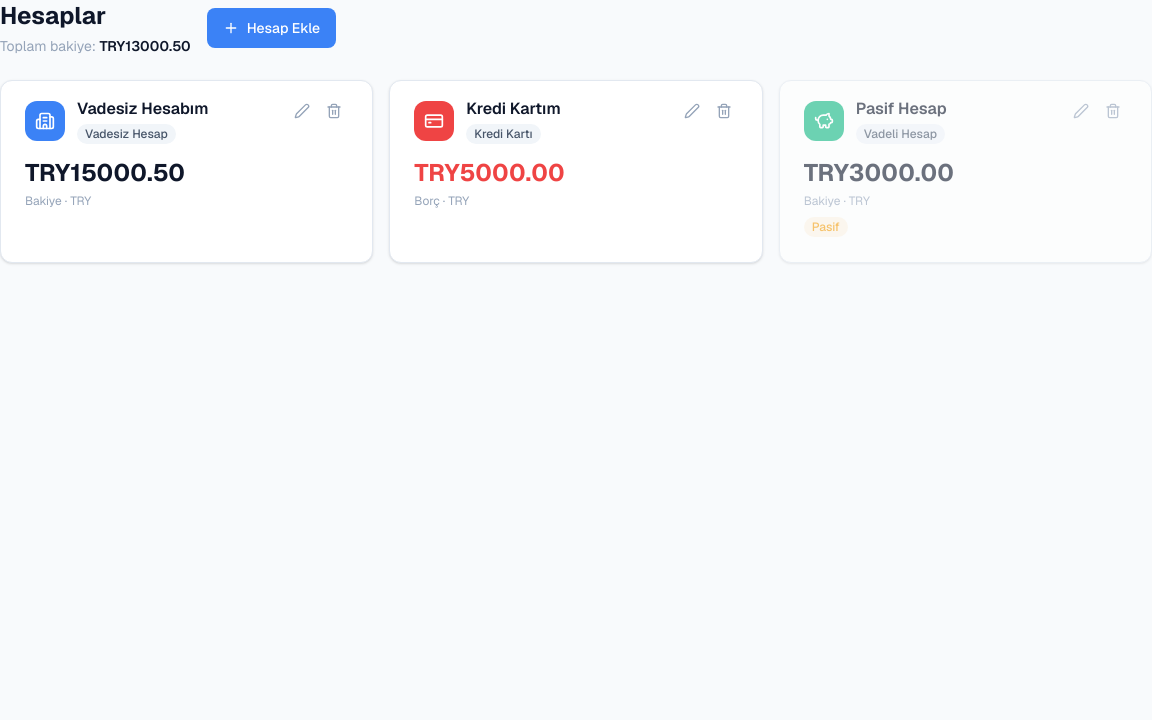
Test: AccountsPage › shows delete confirmation modal
Check: the heading "Vadesiz Hesabım" is shown, box [77,97,208,121]
Click the button titled "Sil" next to "Vadesiz Hesabım".
click(334, 111)  # box [320,97,348,125]
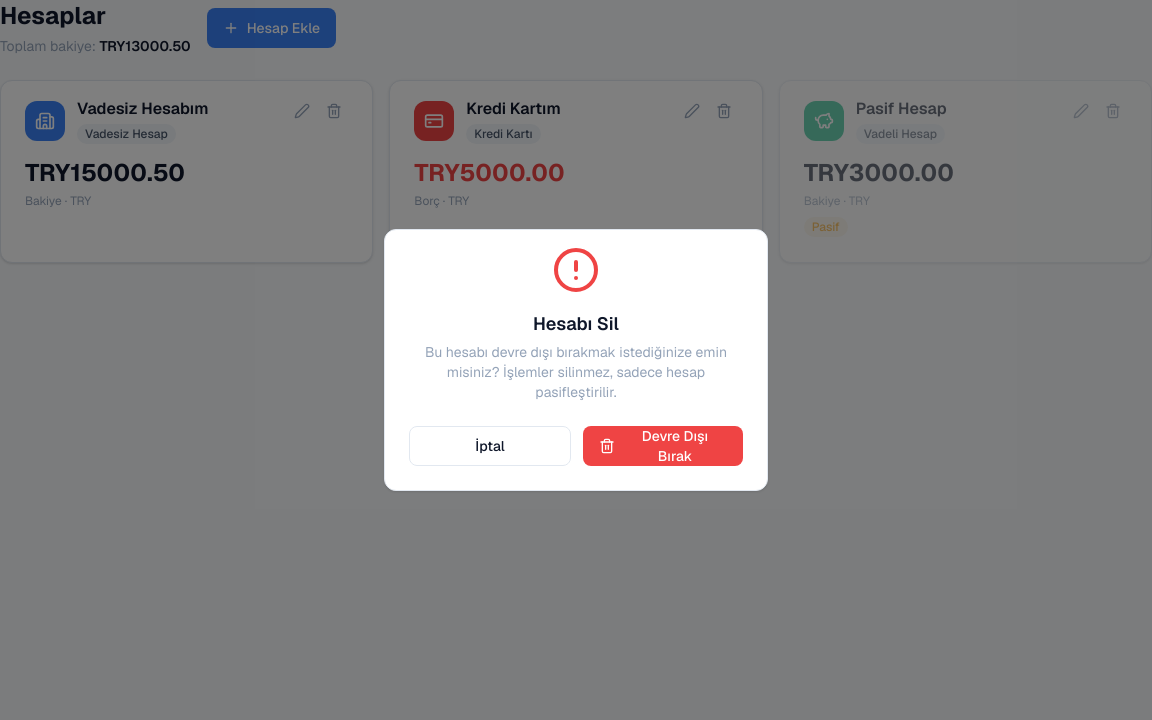
Check: the heading "Hesabı Sil" is shown, box [533,312,619,335]
Check: the text "Bu hesabı devre dışı bırakmak istediğinize emin misiniz" is shown, box [425,343,727,401]
Check: the button "Devre Dışı Bırak" is shown, box [583,426,743,466]
